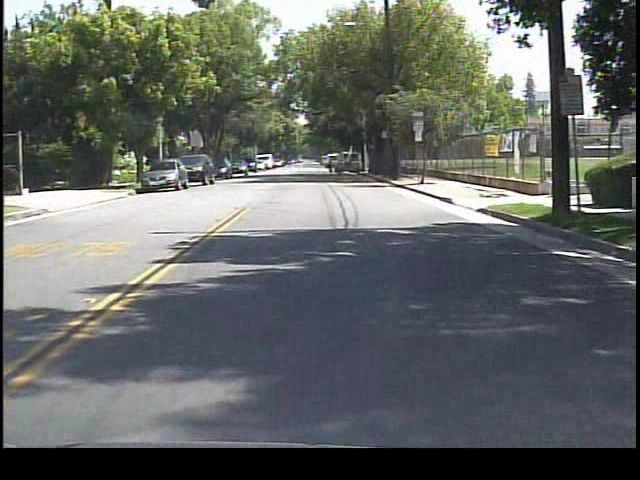person: (323, 153, 338, 178)
